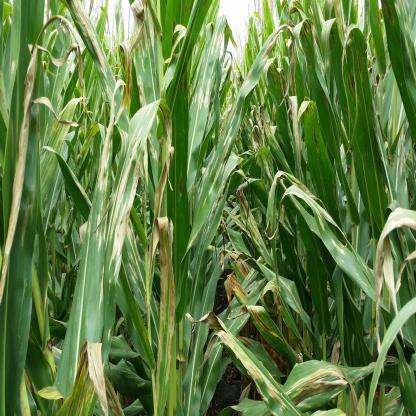Corn leaf blight: (182, 21, 298, 271), (98, 96, 177, 416), (63, 72, 127, 403), (5, 0, 54, 416), (268, 176, 378, 300), (182, 306, 306, 416), (340, 18, 396, 245), (180, 7, 230, 261), (294, 18, 350, 198), (130, 2, 166, 198), (148, 214, 182, 416), (374, 202, 415, 360), (297, 94, 342, 235), (282, 346, 364, 406)
